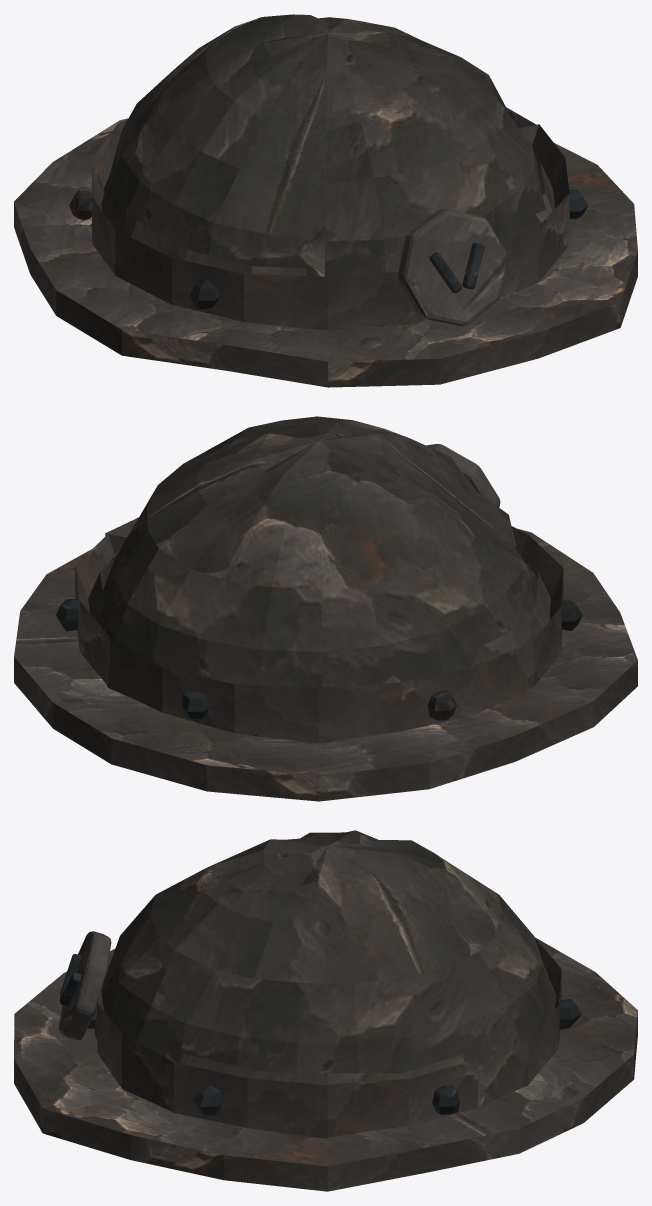
File: junk_helmet.glb
The picture shows the model from 3 angles, top to bottom: view 1: azimuth 30°, elevation 25°; view 2: azimuth 150°, elevation 25°; view 3: azimuth 270°, elevation 25°; orthographic projection. The views are drawn at different scales.
Visible parts, largest first — view 1: model; view 2: model; view 3: model.
Part boxes in pixels (bbox=[...]): model: bbox=[14, 14, 637, 387]; model: bbox=[14, 416, 637, 801]; model: bbox=[14, 830, 637, 1191].
Size of the model in its own units: 0.3512 by 0.1387 by 0.3602.
Materials: 5 (5 with a texture image).
